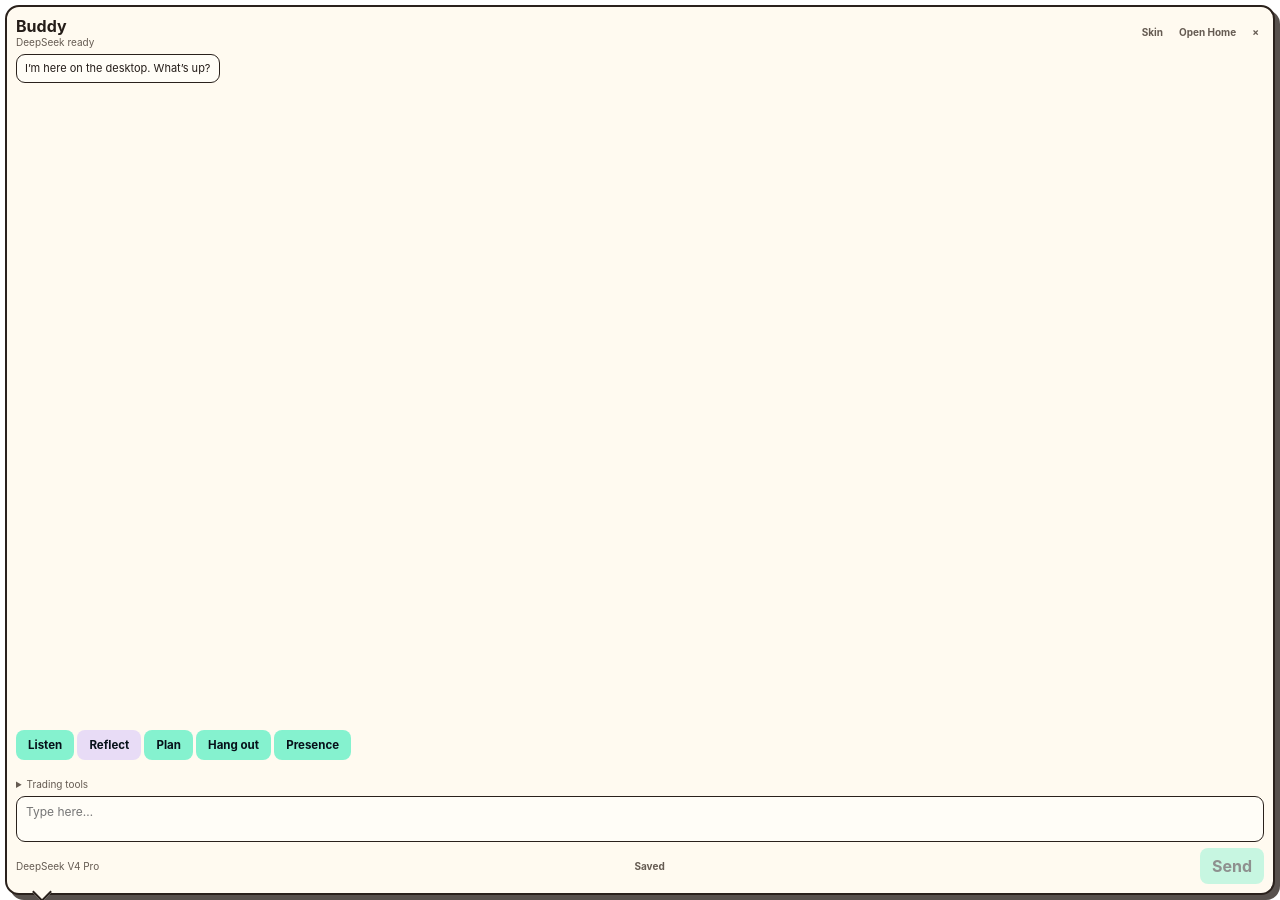
Scenario: BubbleView › sends through the persistent storage and shared cloud-agent pipeline
Expected: the text "DeepSeek ready" is shown, [16,36,94,48]
Type "hello bubble" into the text box named "Message Buddy".
click(640, 819); type("hello bubble")  # box [16,796,1264,842]
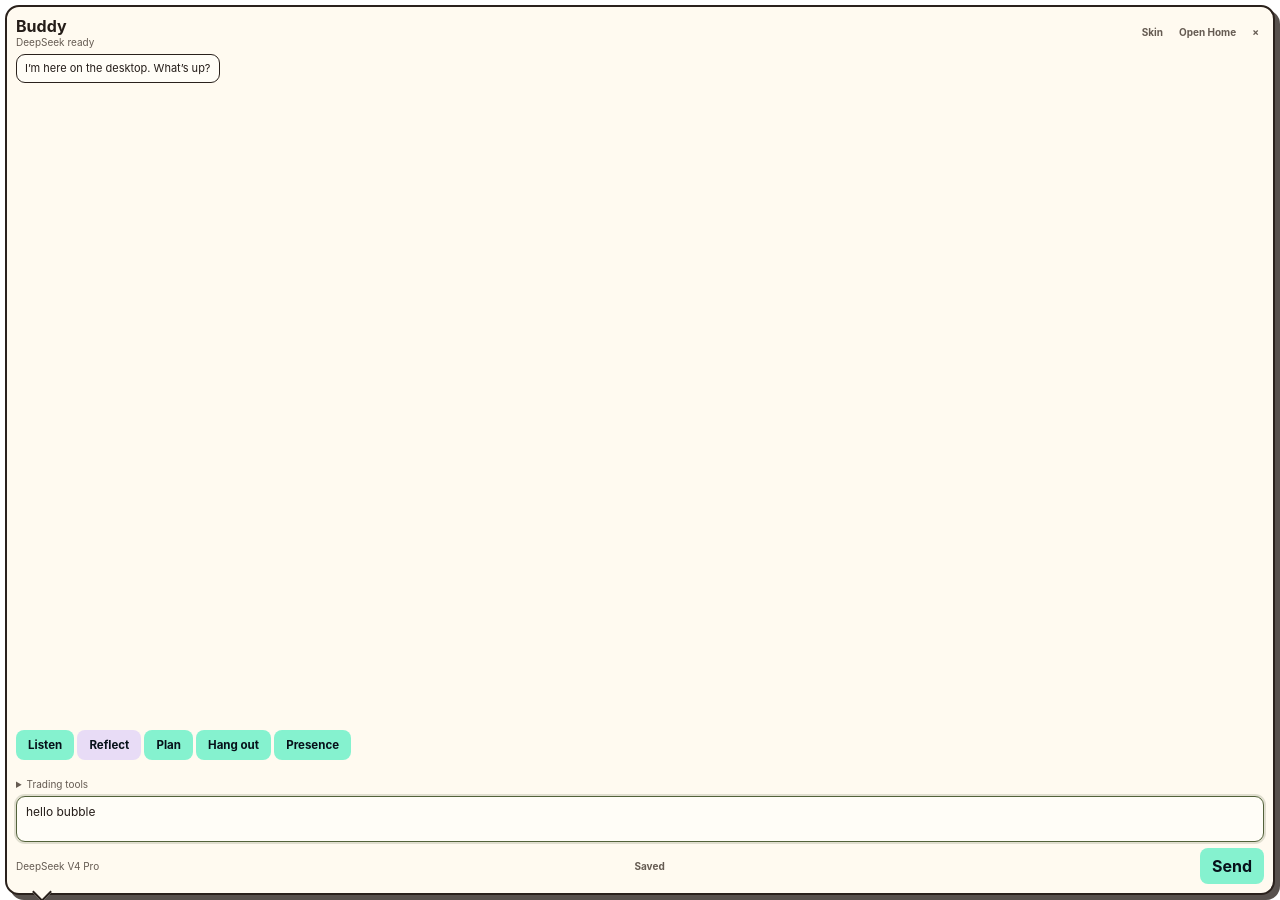
Press Enter
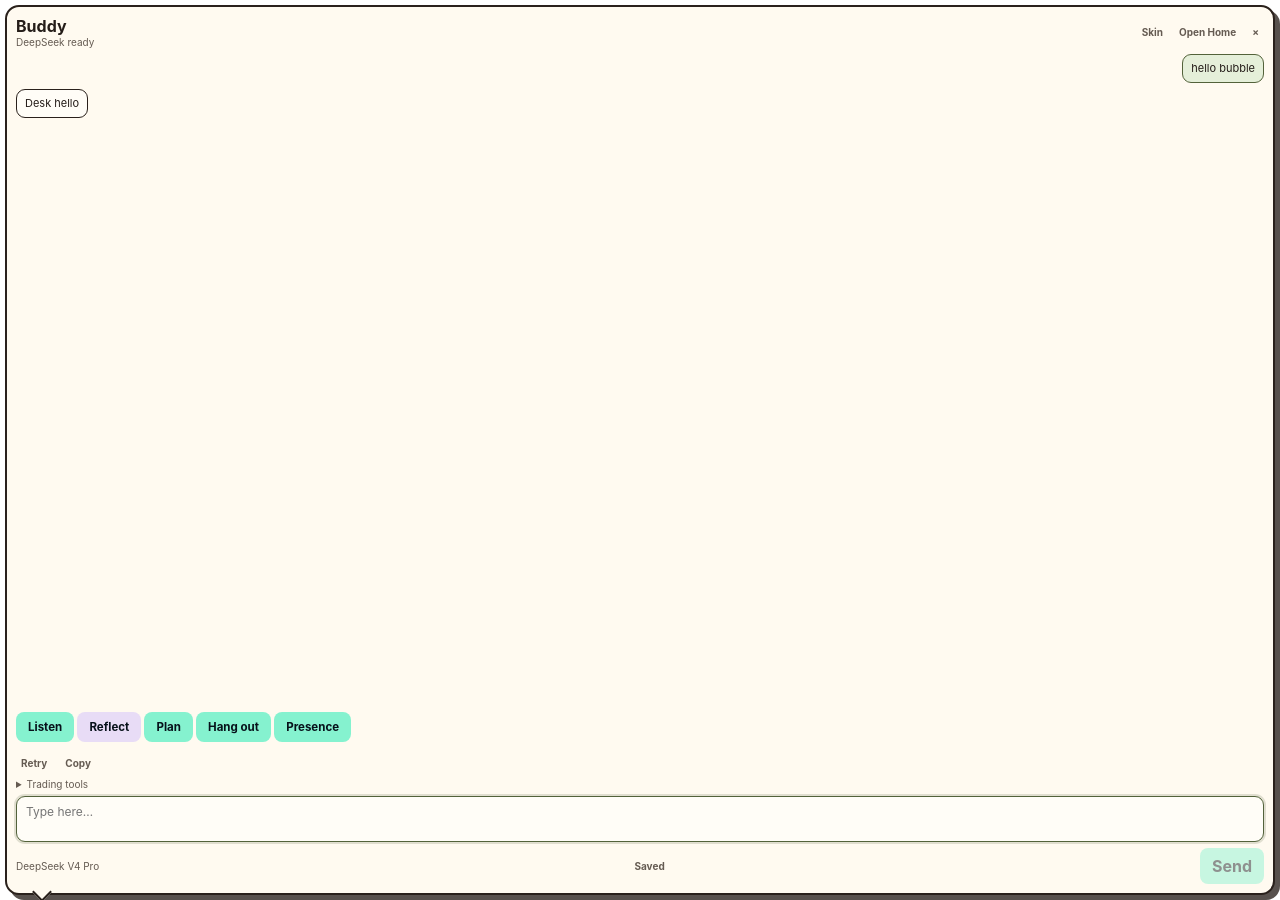
Expected: the text "Desk hello" is shown, [16,89,88,118]
